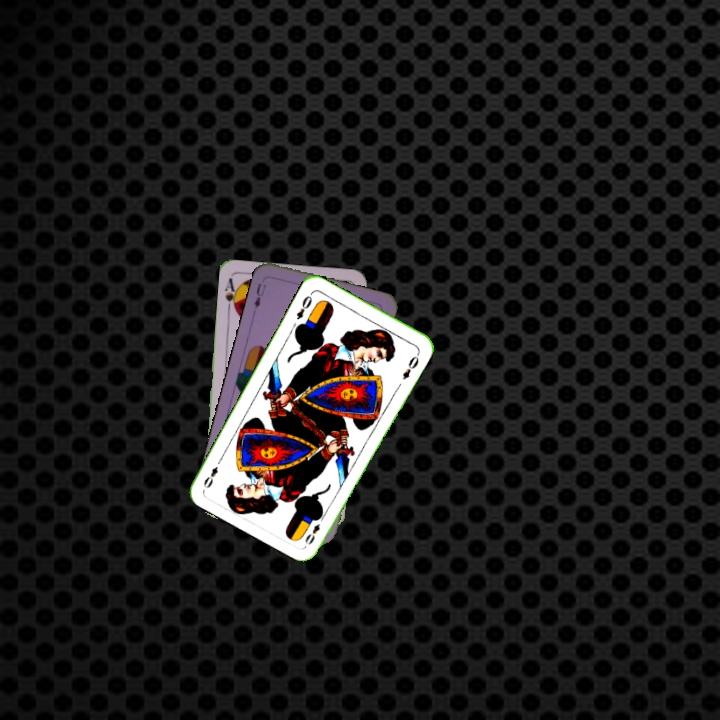EO: (292, 288, 315, 322), (301, 520, 323, 547)
EU: (250, 279, 269, 311)
SA: (221, 274, 241, 315)
